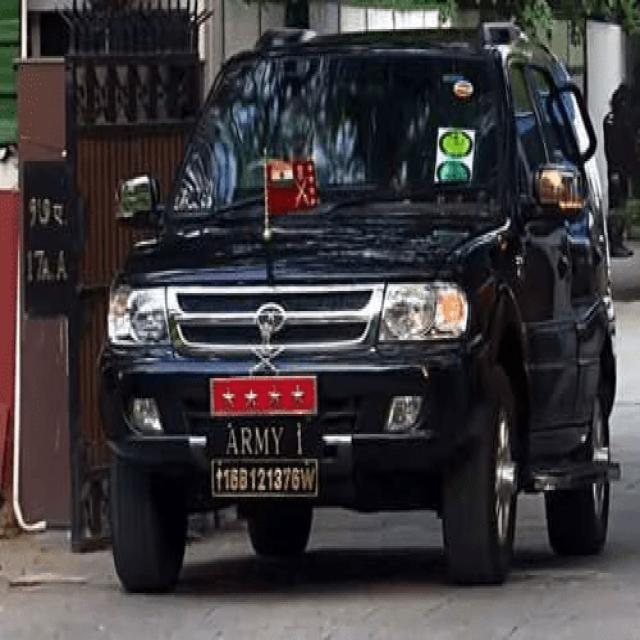1: (223, 470, 230, 492), (250, 470, 257, 490), (267, 469, 273, 492)
2: (258, 470, 267, 491)
3: (274, 470, 282, 490)
6: (290, 468, 301, 489), (230, 468, 238, 489)
7: (284, 469, 290, 489)
b: (239, 468, 248, 489)
w: (301, 468, 315, 490)
